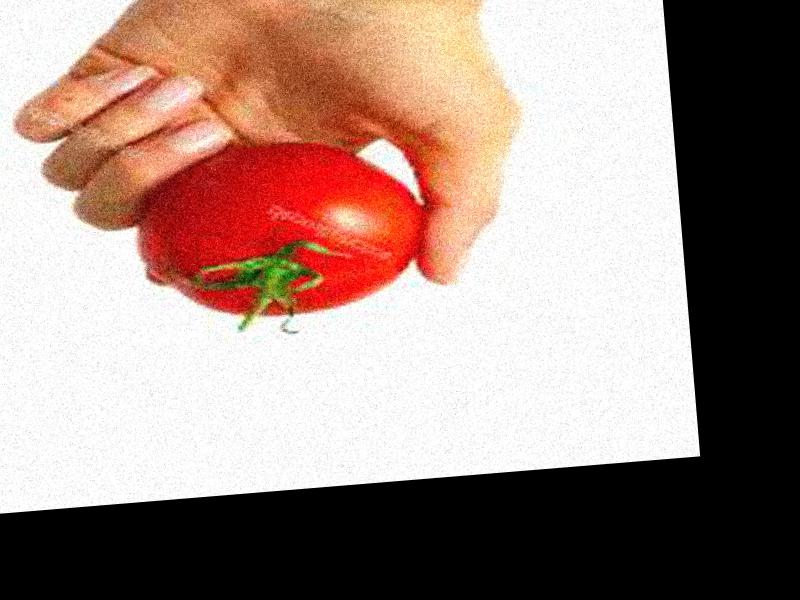Tomato: (136, 131, 428, 328)
